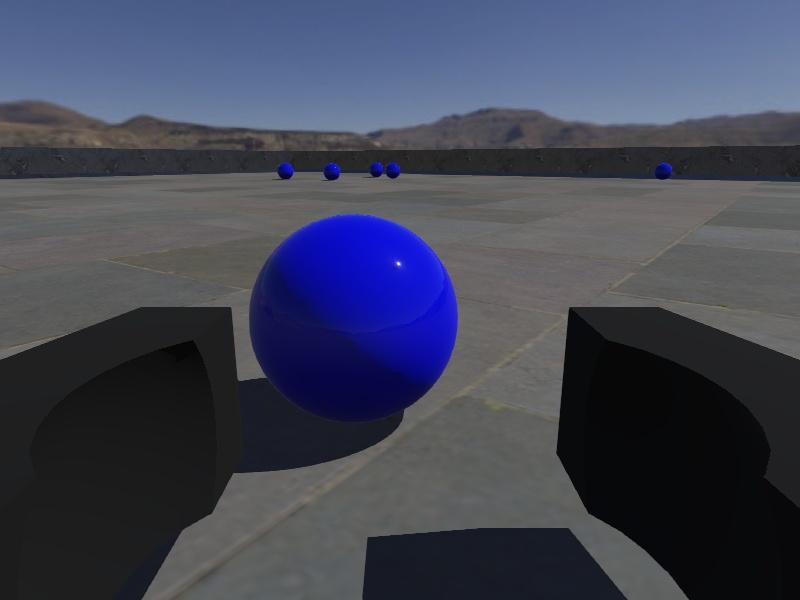blue ball: (250, 213, 458, 422), (322, 162, 342, 181), (653, 162, 673, 181), (276, 161, 295, 180), (369, 161, 385, 177), (385, 162, 401, 178)
